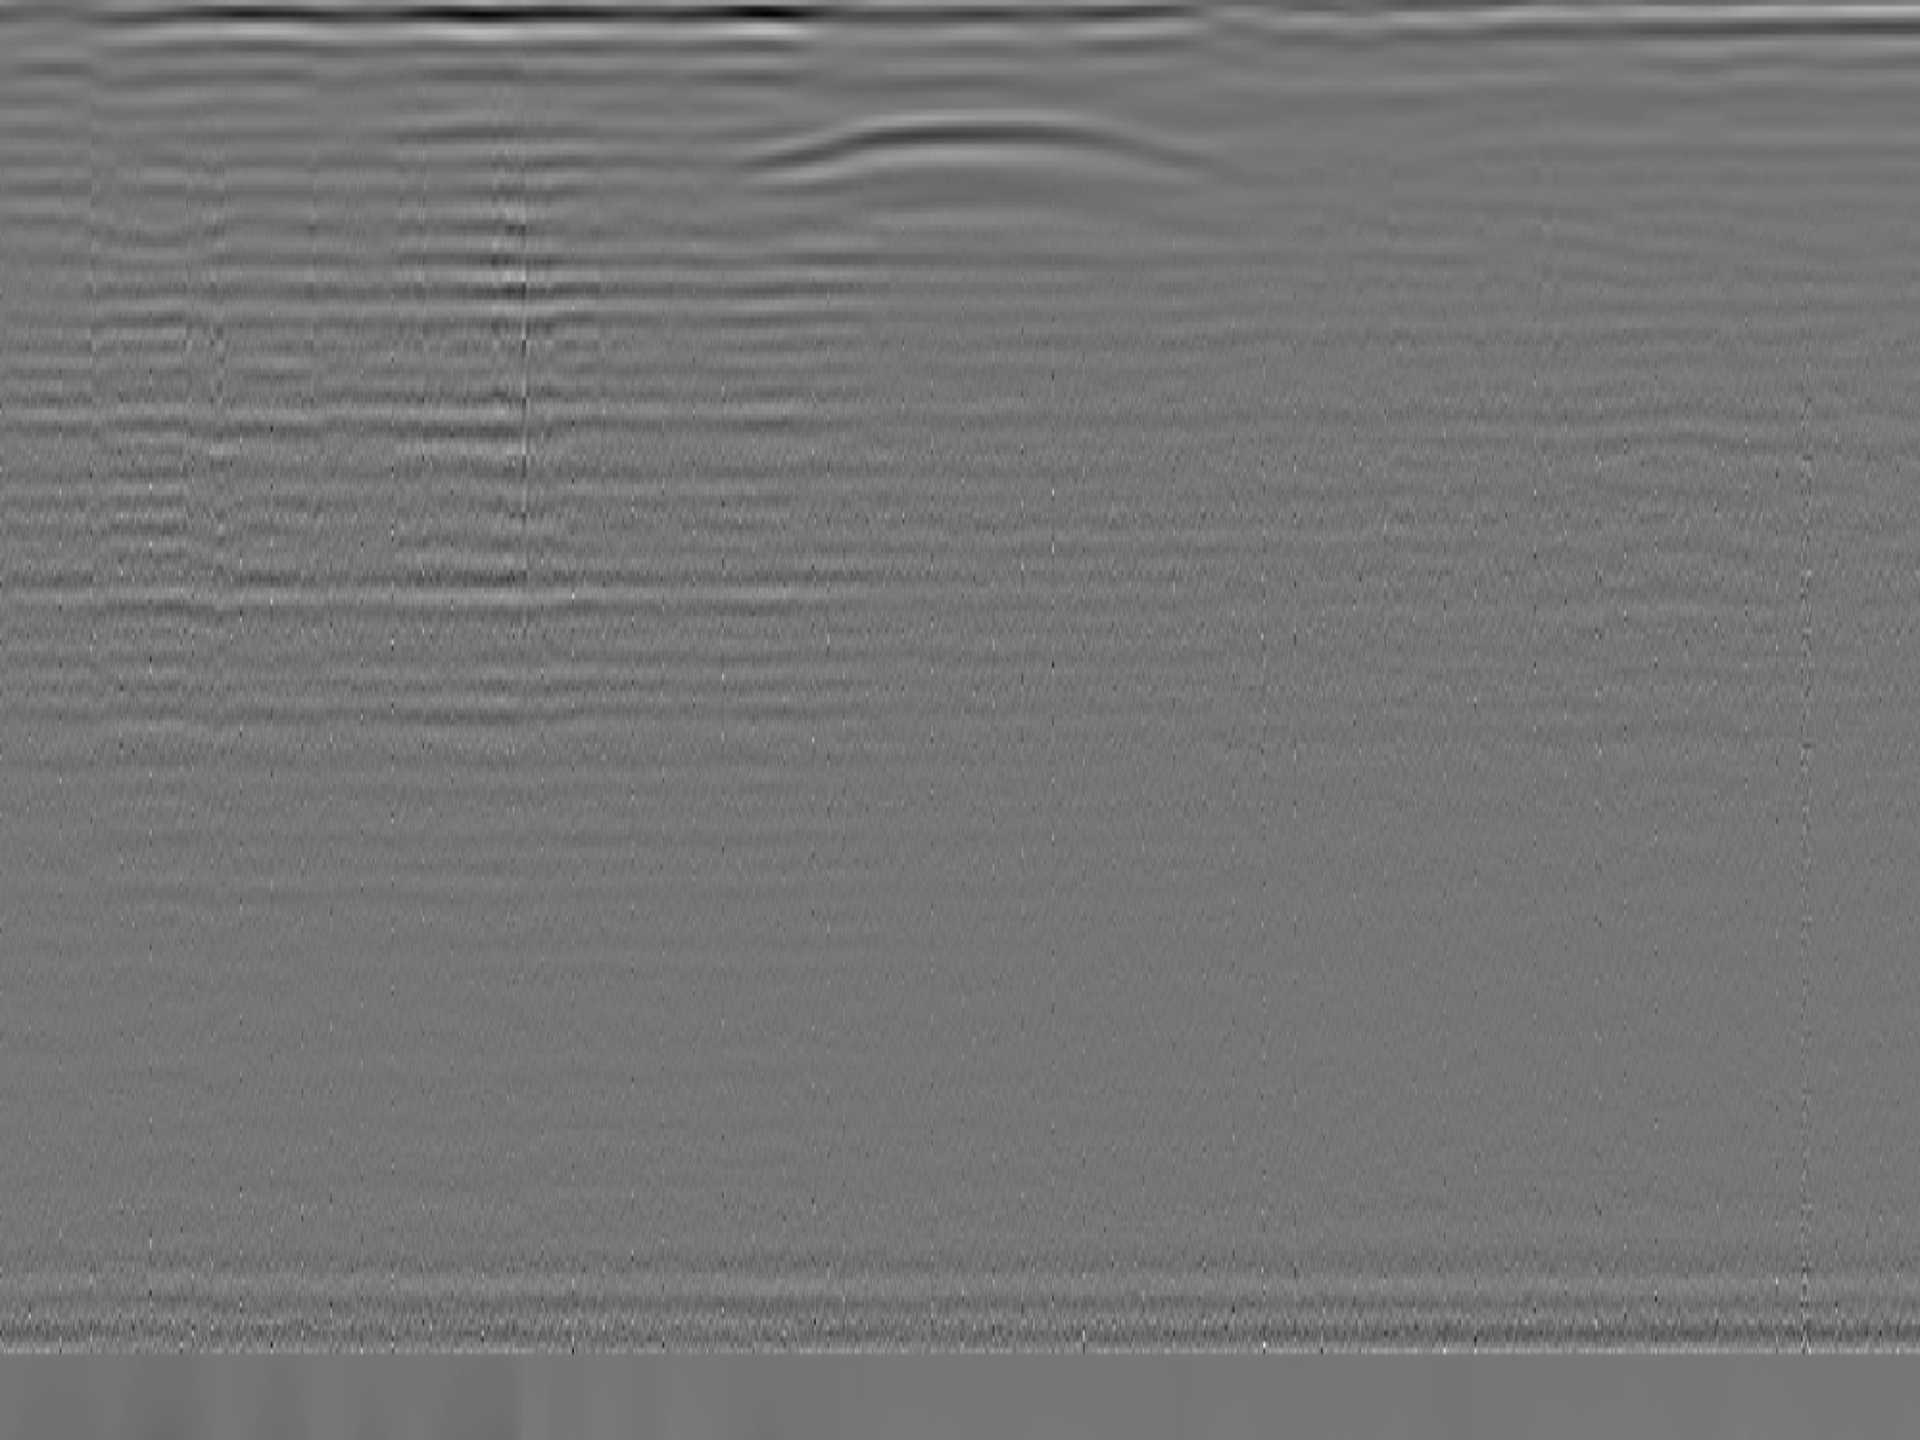Tunnel: (730, 112, 1262, 188)
